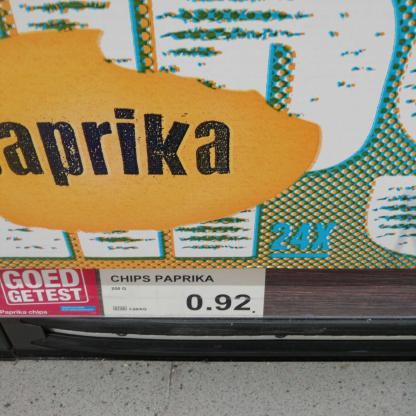prtg: (100, 270, 267, 319)
